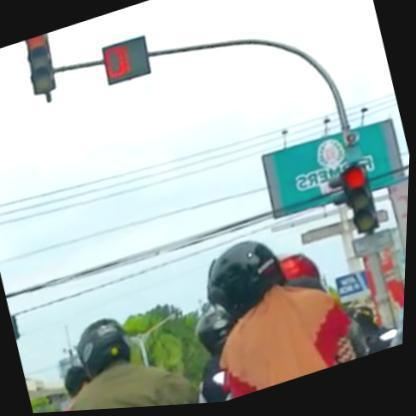red: (341, 164, 384, 240), (19, 34, 61, 98)
